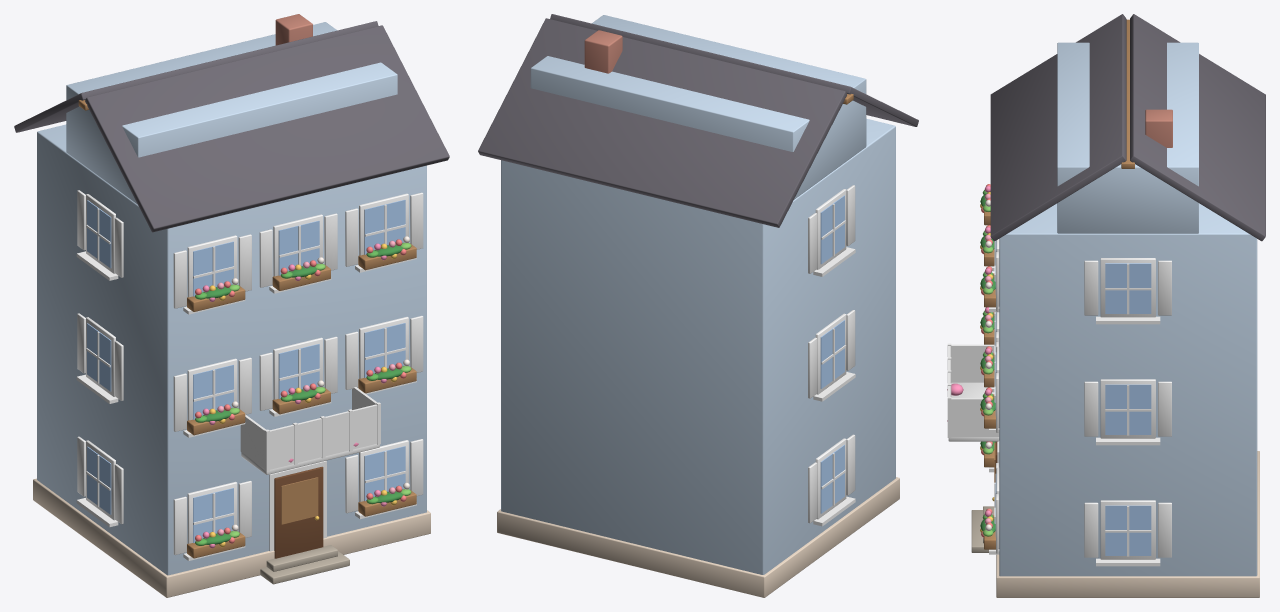
The model's file is house_blue.glb.
3 renders of one model, left to right at view 1: azimuth 30°, elevation 25°; view 2: azimuth 150°, elevation 25°; view 3: azimuth 270°, elevation 25°, orthographic. The views are drawn at different scales.
Parts seen in each view (by area): view 1: house_blue; view 2: house_blue; view 3: house_blue.
Boxes of the visible parts, x1,y1,x2,y2 form: house_blue: [14, 14, 449, 597]; house_blue: [478, 14, 918, 597]; house_blue: [947, 14, 1265, 597].
Bounding box in the file's own units: 7.4 × 10.95 × 6.92.
